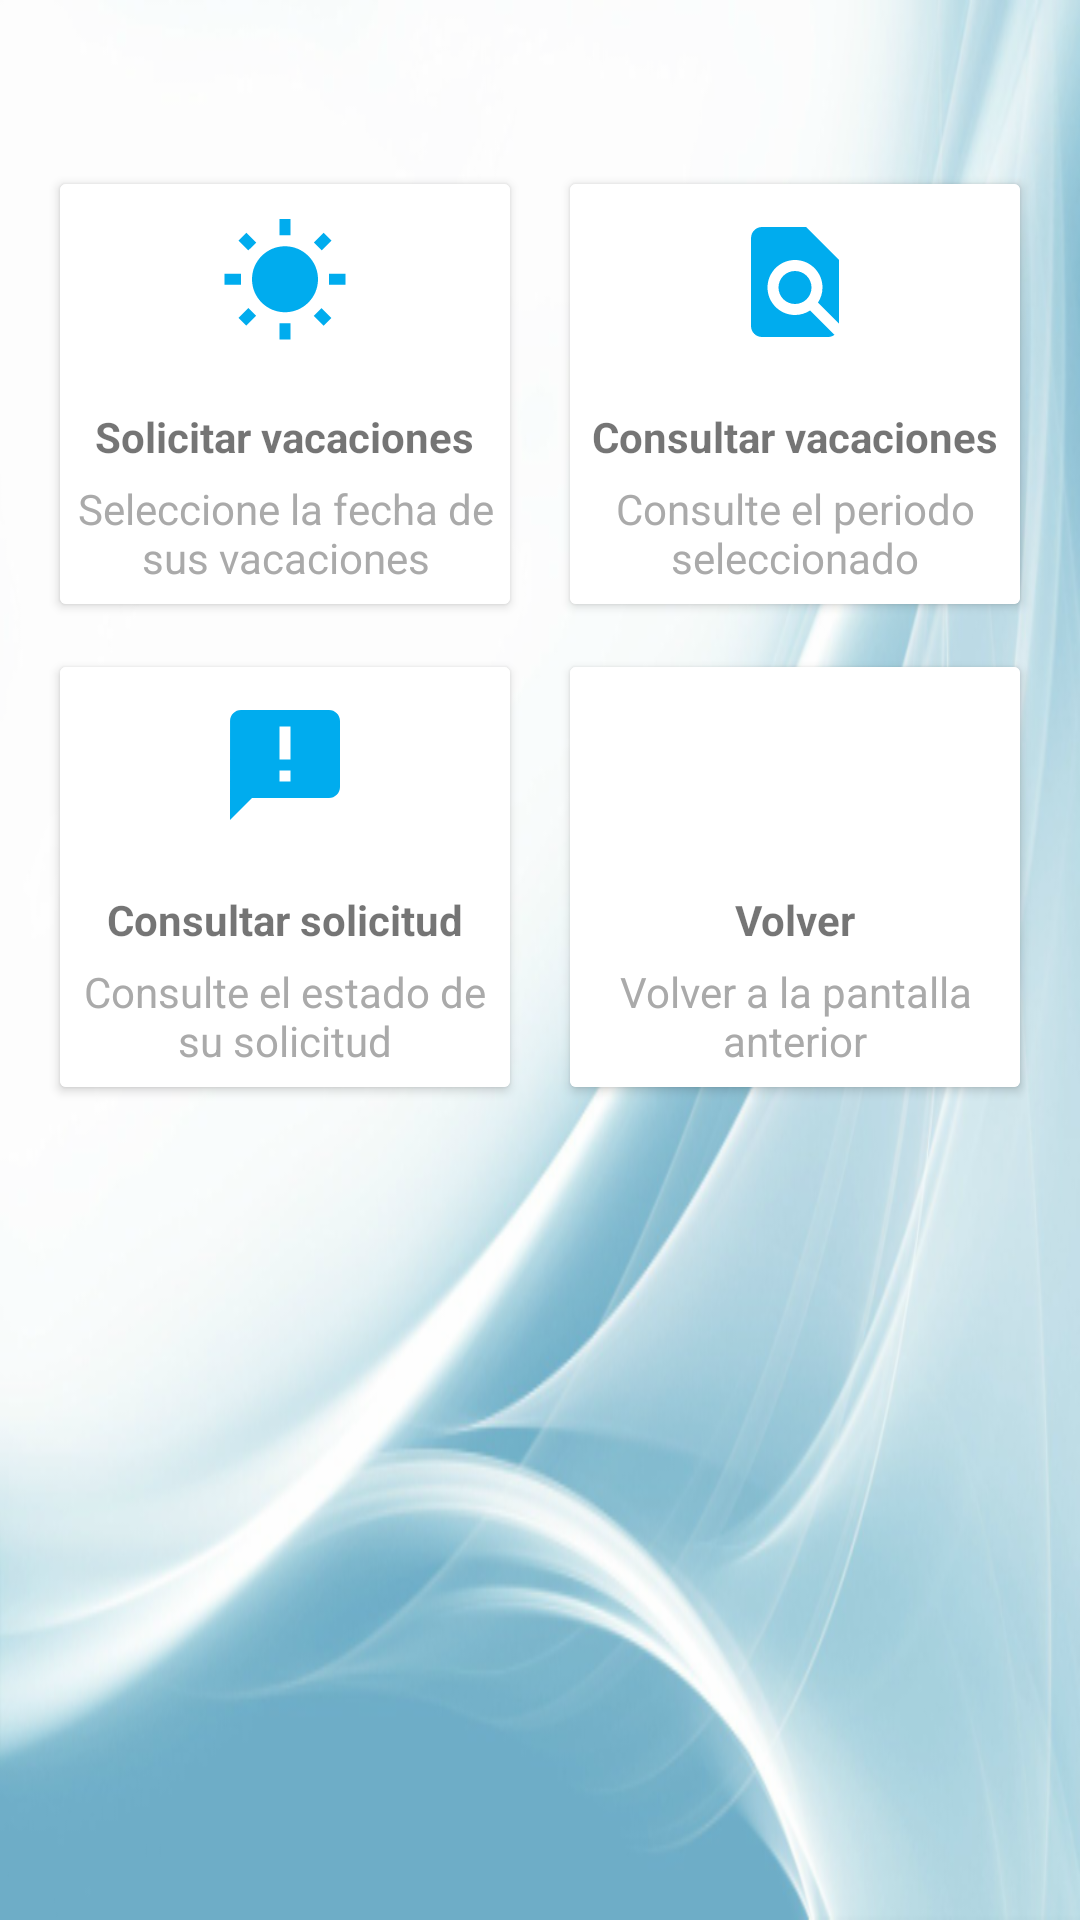

Where icons sit on this 1080px x 1920px app screen, as (x1, y1, x2, y2):
announcement: (230, 710, 340, 820)
find in page: (751, 227, 839, 337)
sunny: (224, 219, 346, 340)
